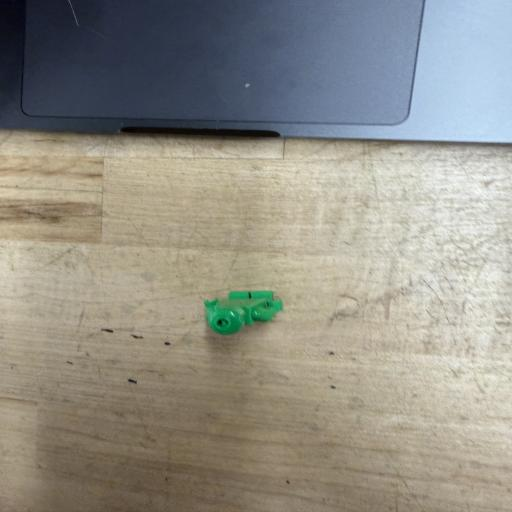green-minifig: (205, 291, 283, 335)
